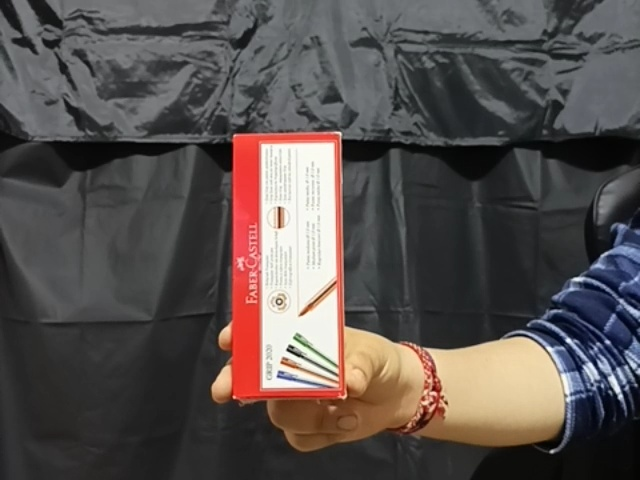xd: (227, 131, 349, 401)
